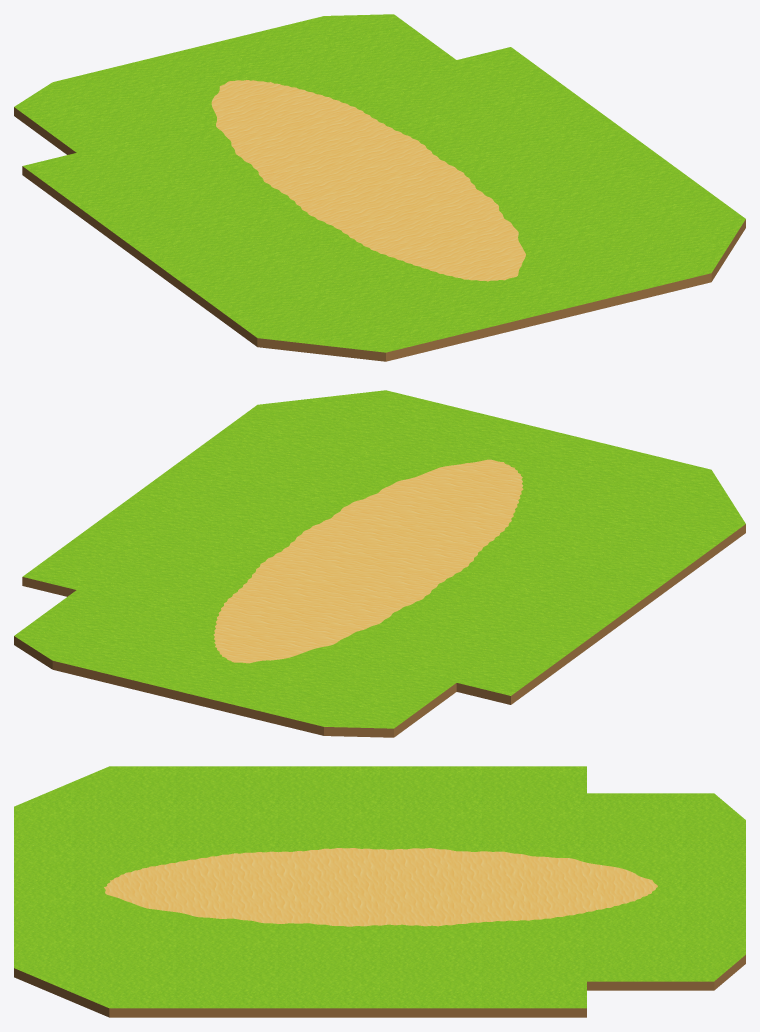
Rendered from surface-04-DOgFb_a7.glb.
The picture shows the model from 3 angles, top to bottom: view 1: azimuth 30°, elevation 25°; view 2: azimuth 150°, elevation 25°; view 3: azimuth 270°, elevation 25°; orthographic projection.
Visible parts, largest first — view 1: FLC_Surface_04, FLC_Regions_04; view 2: FLC_Surface_04, FLC_Regions_04; view 3: FLC_Surface_04, FLC_Regions_04.
Part boxes in pixels (x1,y1,x2,y2): FLC_Surface_04: (14,14,745,361); FLC_Regions_04: (211,80,525,281); FLC_Surface_04: (14,390,745,737); FLC_Regions_04: (213,459,523,663); FLC_Surface_04: (14,766,745,1017); FLC_Regions_04: (104,848,657,926).
Bounding box in the file's own units: 18 × 0.324 × 23.
Materials: 3 (2 with a texture image).
